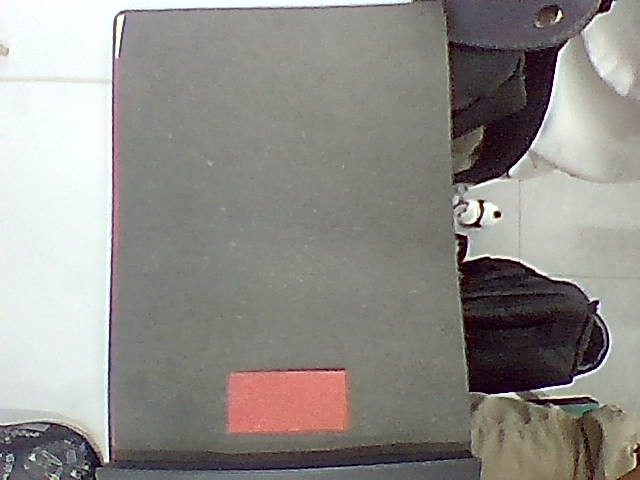card: (227, 369, 347, 434)
